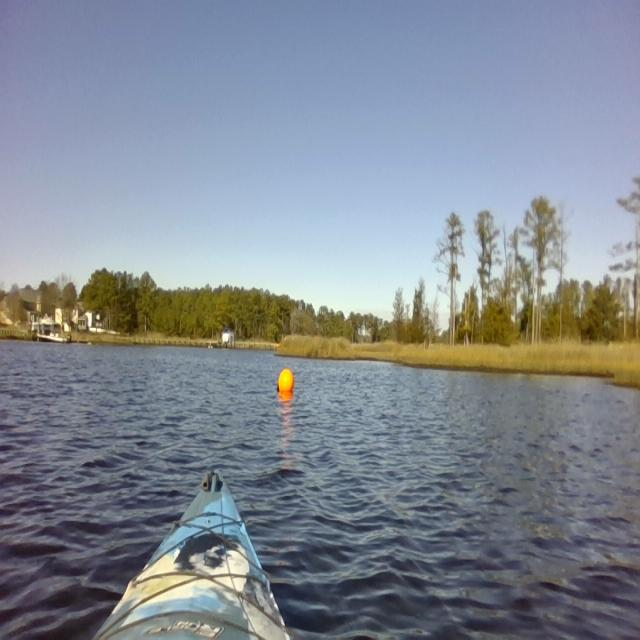Buoy: (274, 362, 296, 403)
